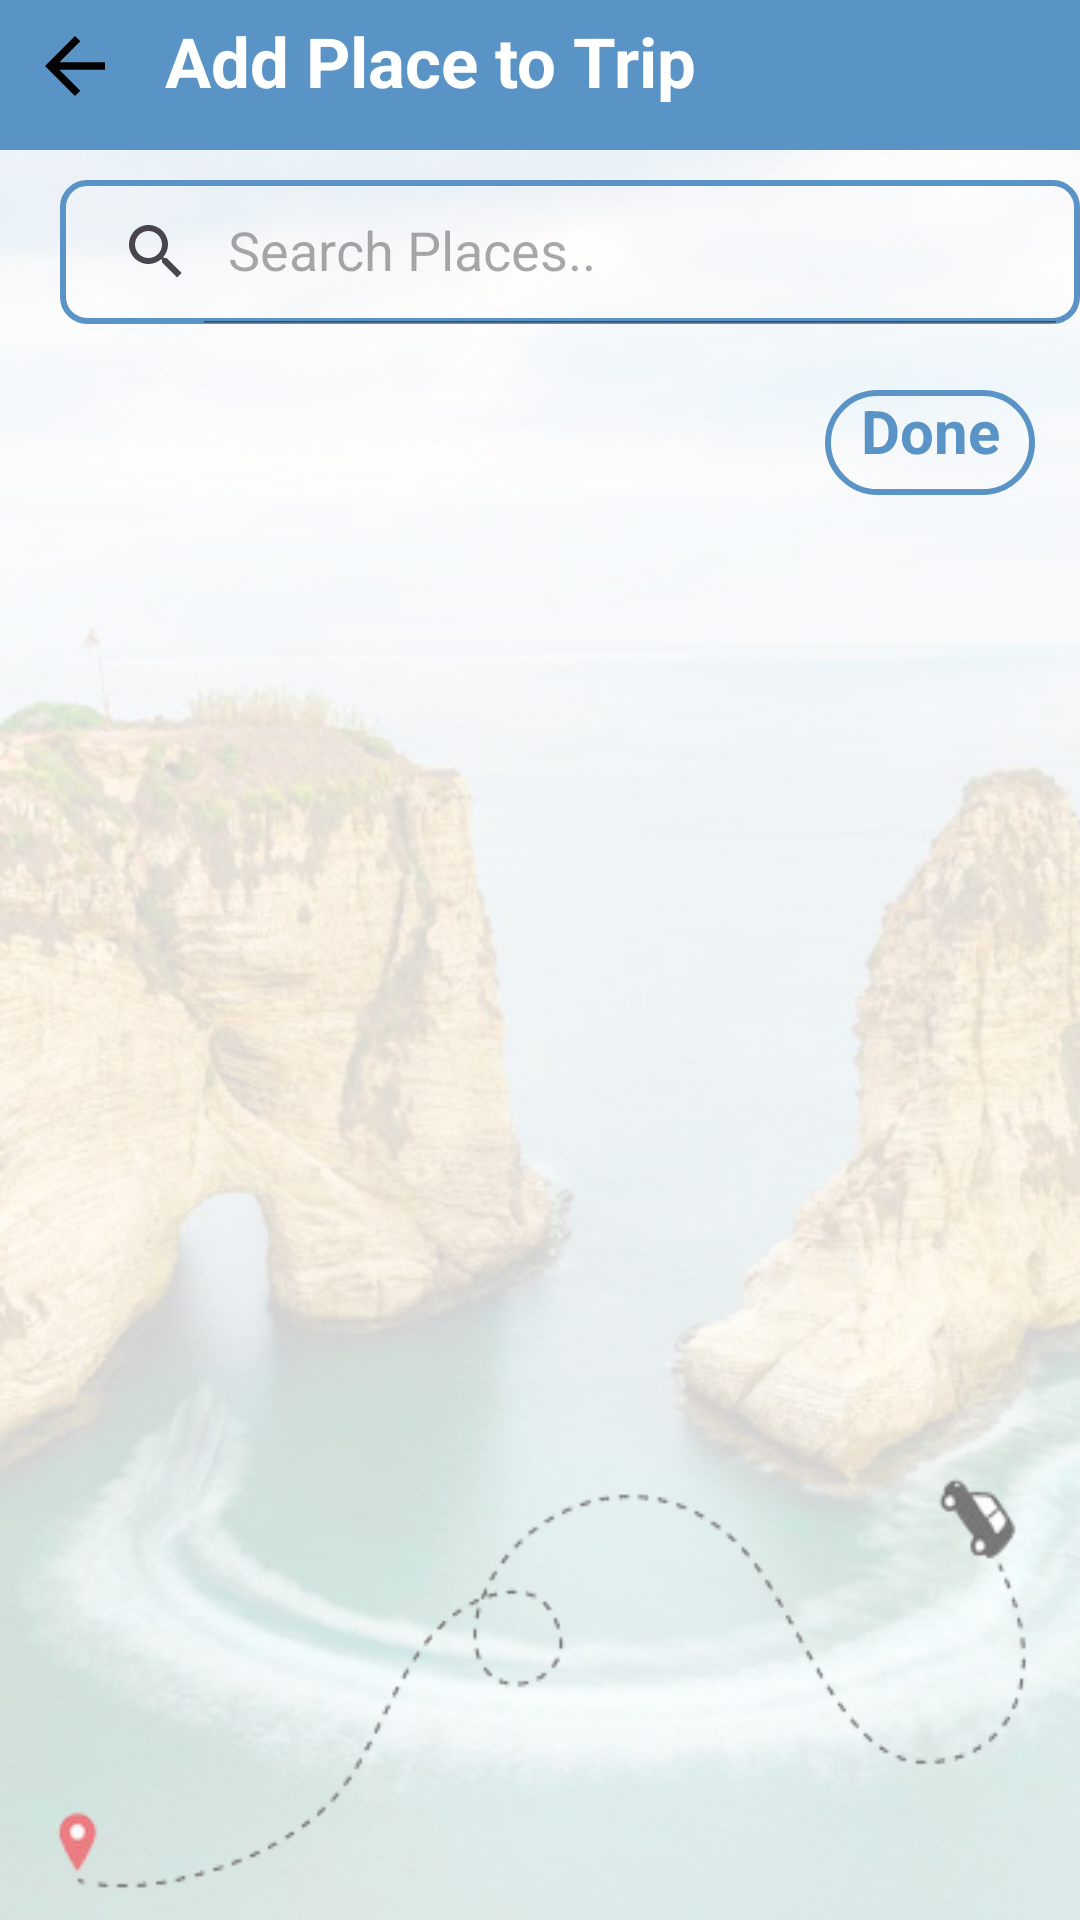

Screen size 1080px x 1920px. Icon name, then its center in pixels as [x,y]:
arrow back: [75,66]
